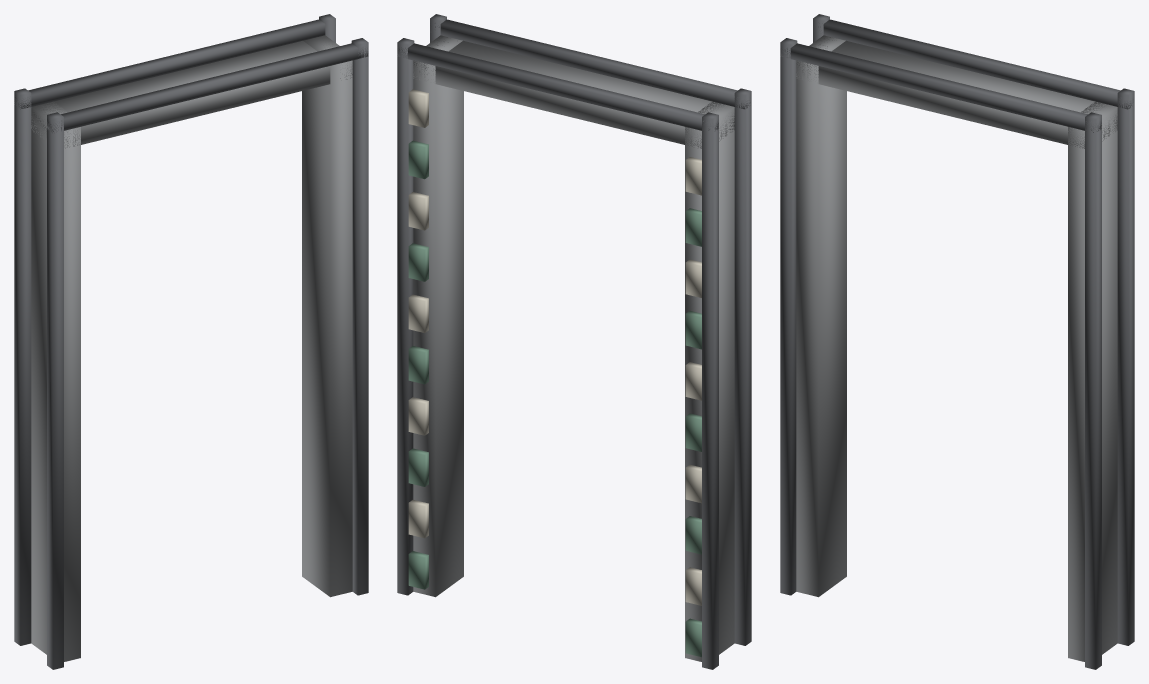
The model's file is doorway_tile_return_w122_h240_d24.glb.
3 views of the same model, side by side, from view 1: azimuth 30°, elevation 25°; view 2: azimuth 150°, elevation 25°; view 3: azimuth 330°, elevation 25° (orthographic).
Parts seen in each view (by area): view 1: world; view 2: world; view 3: world.
Boxes of the visible parts, x1,y1,x2,y2 form: world: (14, 14, 368, 669); world: (397, 14, 751, 669); world: (780, 14, 1134, 669).
Size of the model in its own units: 1.55 by 2.58 by 0.3296.
